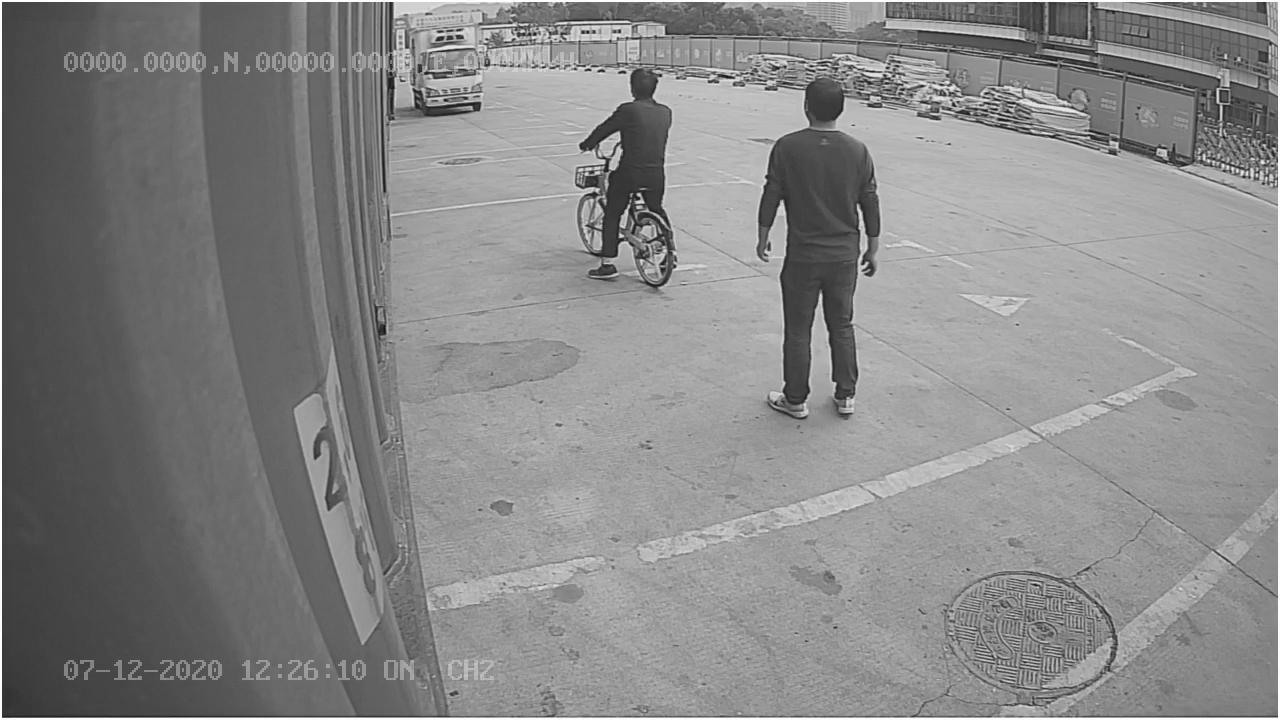person: (753, 75, 885, 425)
